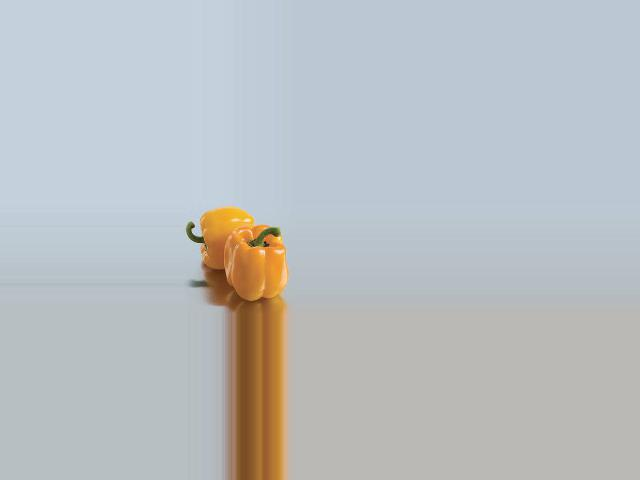bell_pepper: (187, 206, 256, 280)
